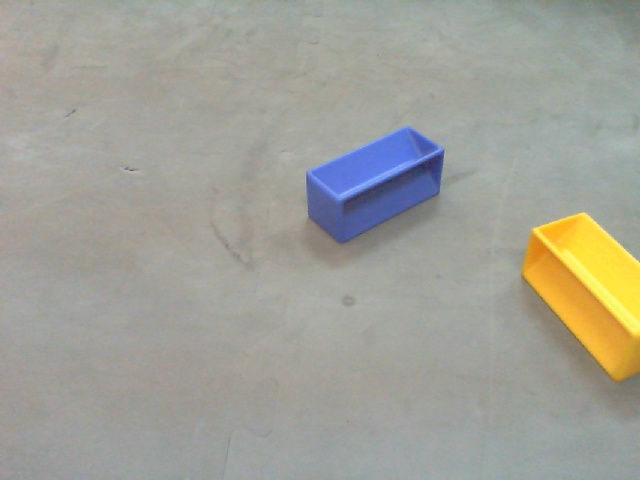BlueSample: (303, 124, 446, 246)
YellowSample: (521, 209, 640, 385)
